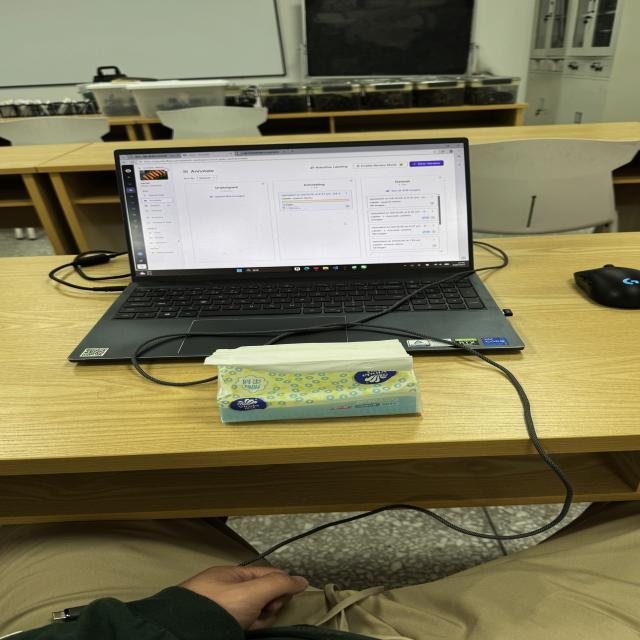tissue: (206, 340, 421, 422)
